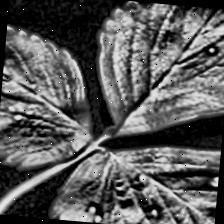Leaf Spot: (90, 0, 224, 146), (0, 22, 103, 175), (48, 134, 220, 224)
